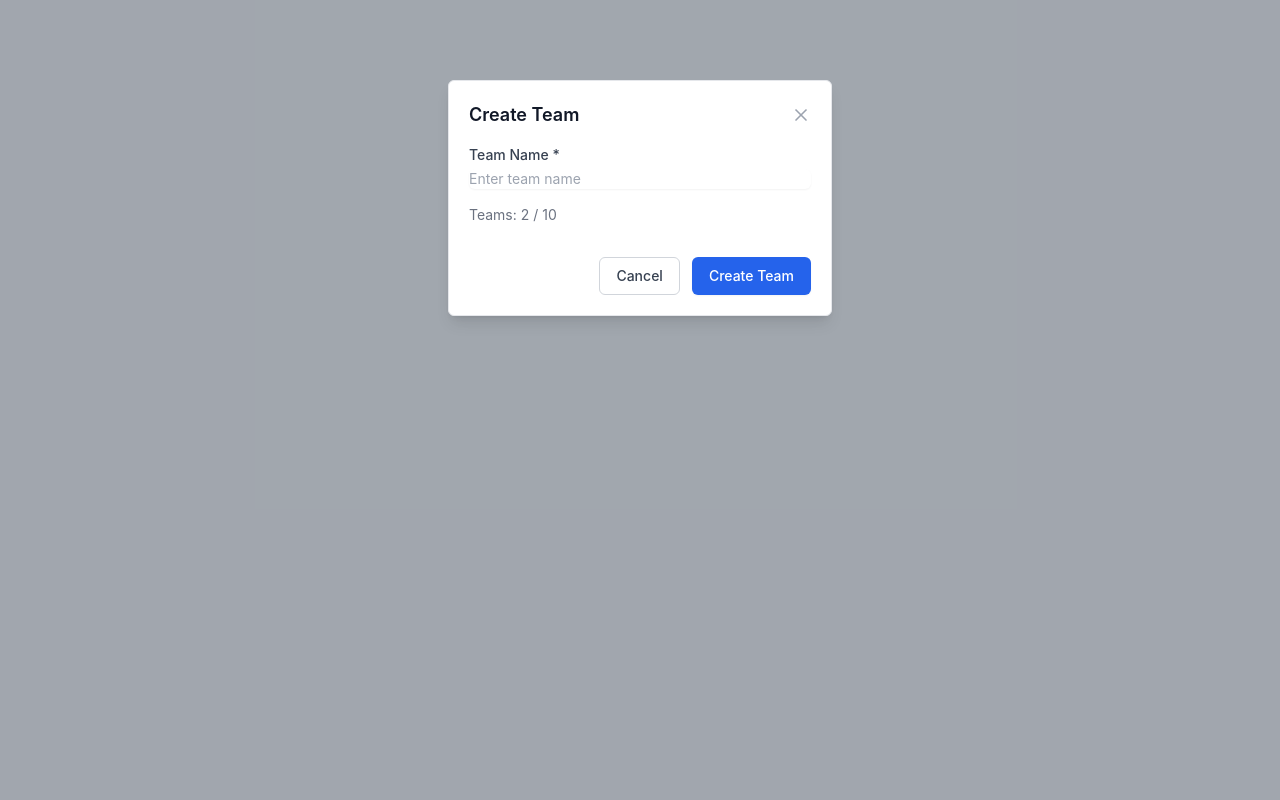
Test case: TeamCreateForm › validates team name is required
Click the button "Create Team".
click(751, 276)  # box [692, 257, 811, 295]
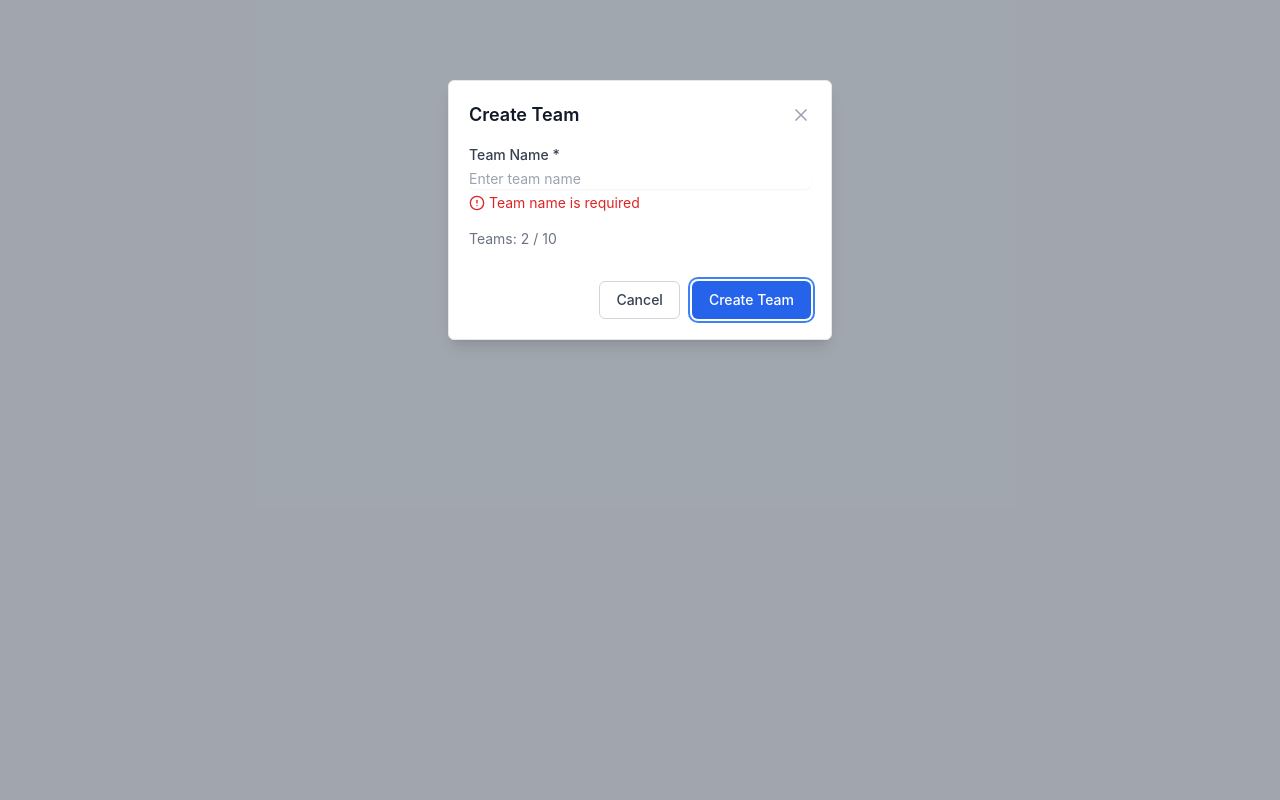
Now the text "Team name is required" is shown, box [489, 193, 640, 213]
